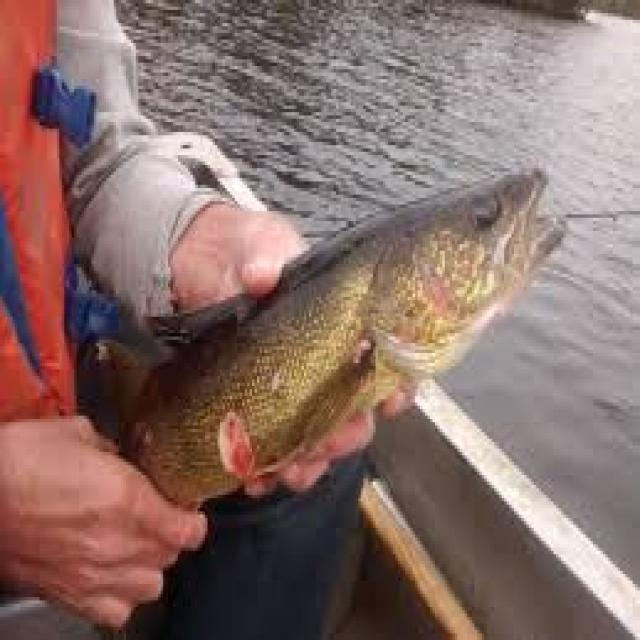EUS Disease: (122, 165, 624, 498)
